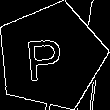P_N: (30, 30, 72, 83)
